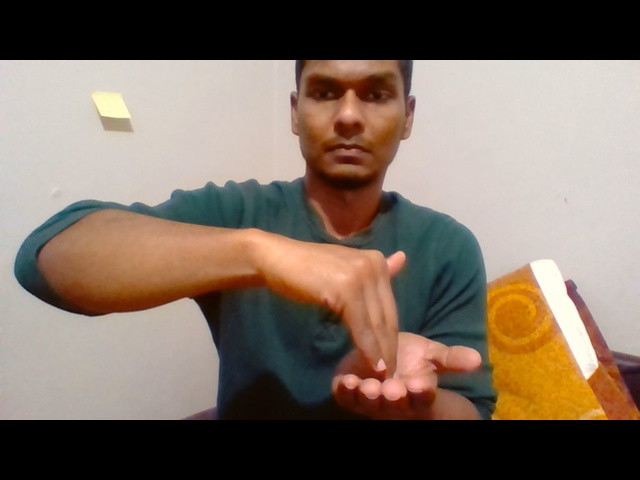ExcuseMe: (249, 222, 486, 421)
